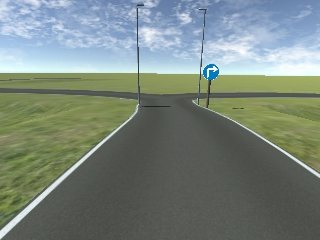right: (202, 64, 220, 80)
